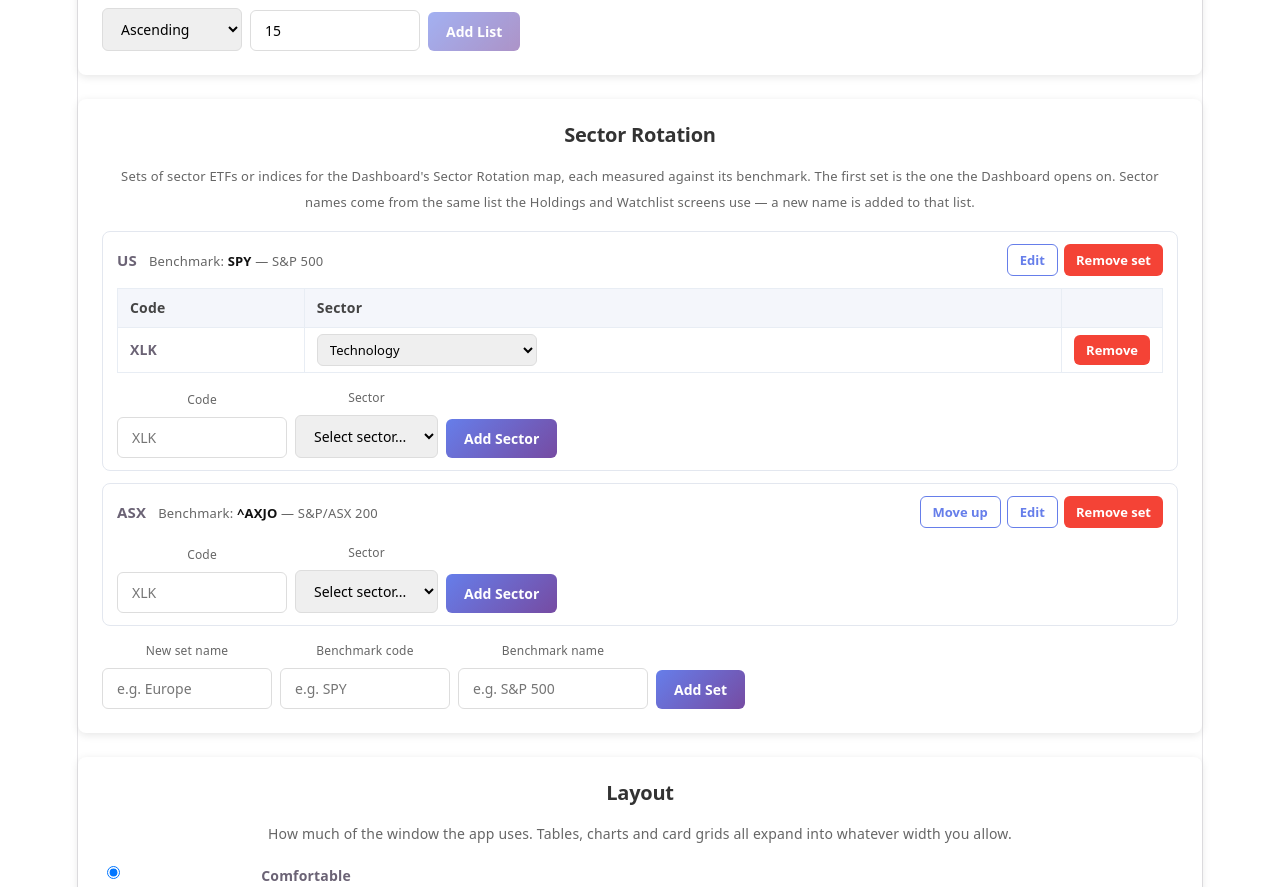
it: sector rotation sets › refuses a code that is already in the set, or is its benchmark
(page scrolled)
Type "xlk" into the field named "New sector code for US" at (202, 437), box [117, 417, 287, 458]
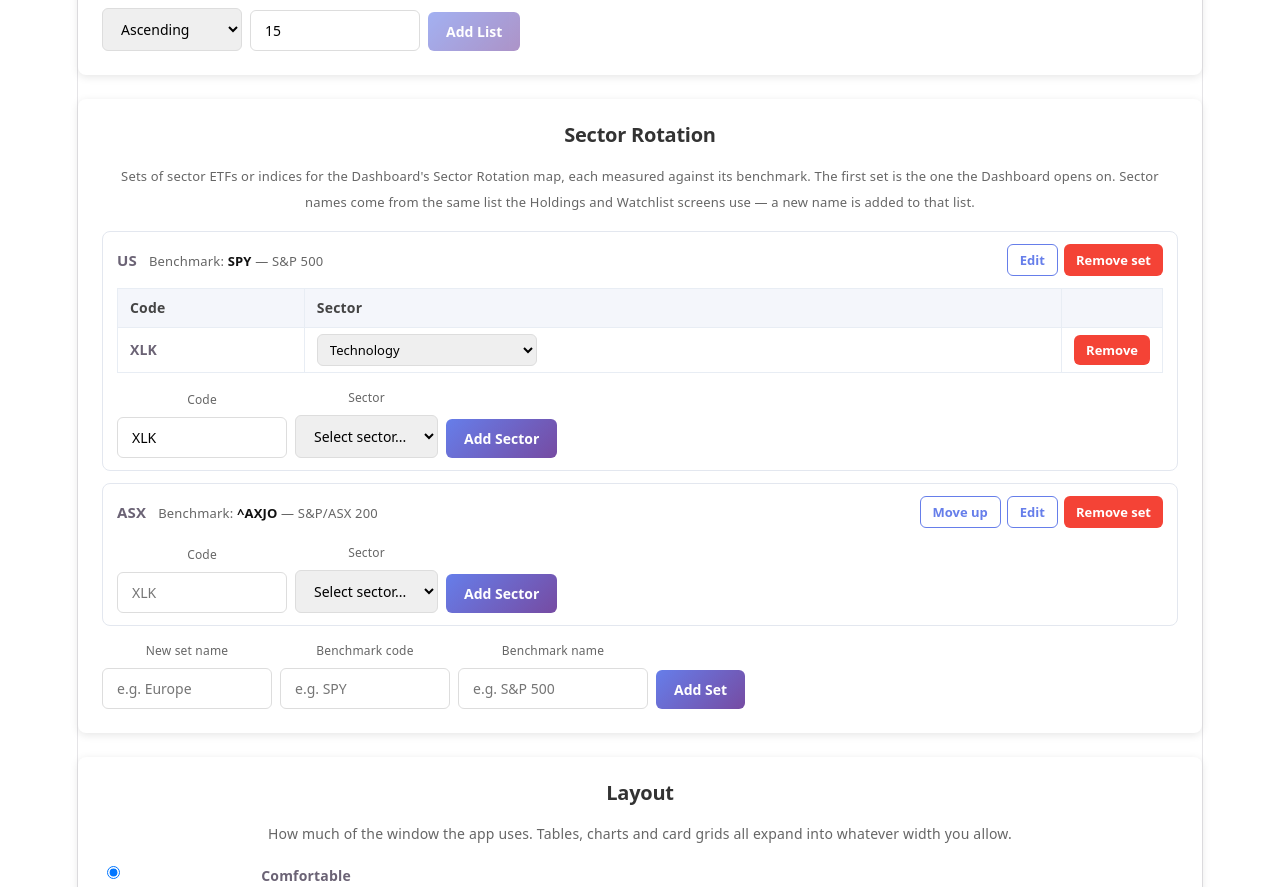
Select "Technology" in the dropdown named "New sector for US" at (366, 436), box [295, 415, 438, 458]
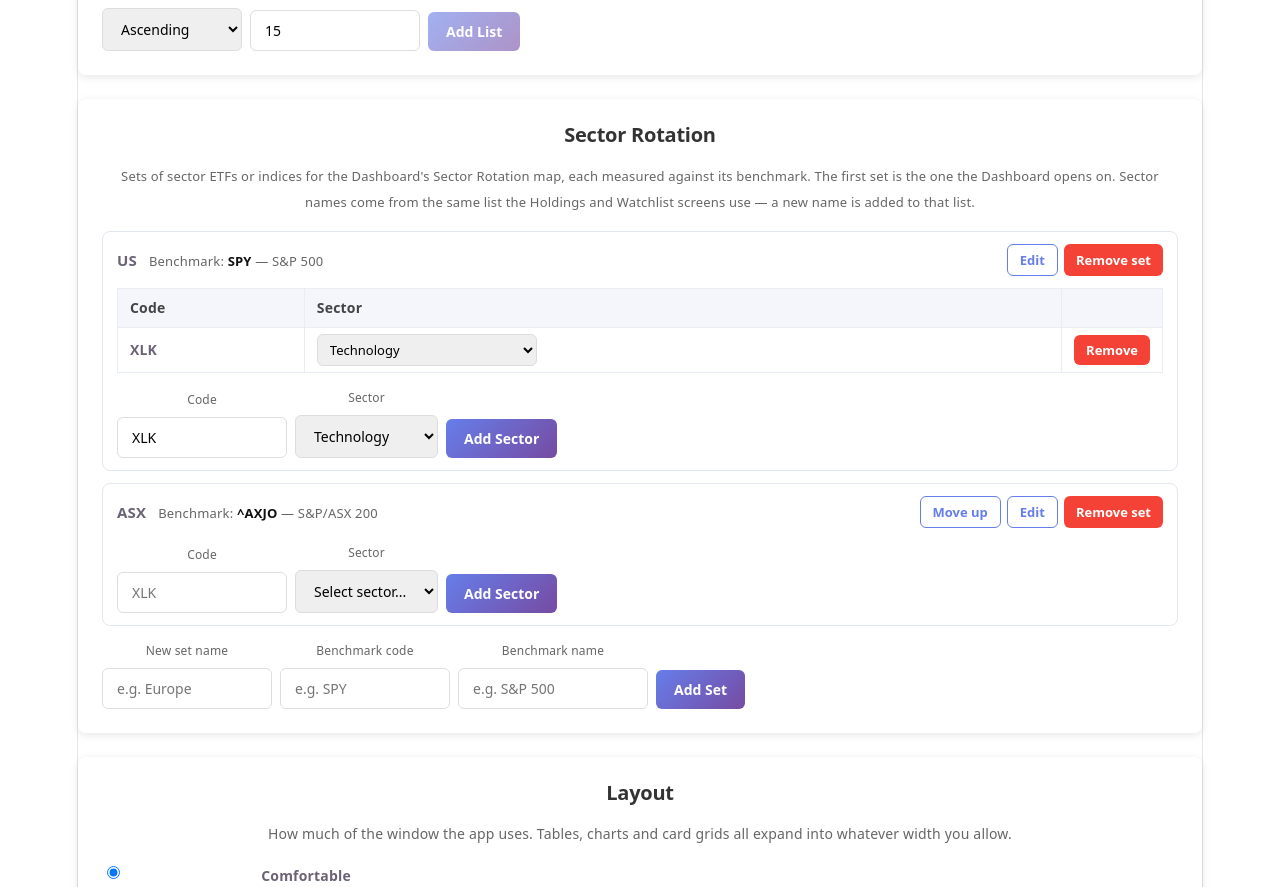
Click the button "Add Sector" below "SPY" at (502, 438), box [446, 419, 557, 458]
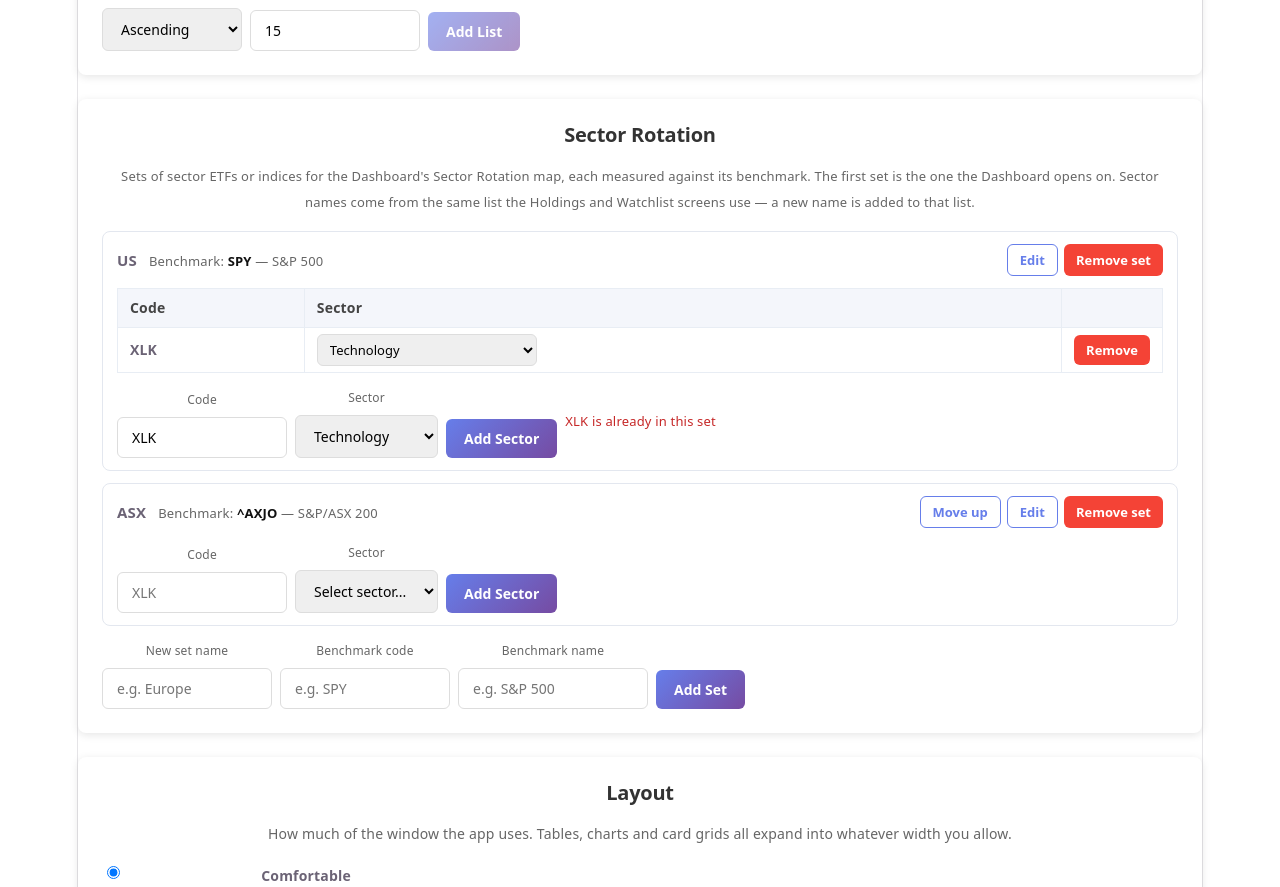
Check: the text "XLK is already in this set" is shown, box [565, 408, 716, 434]
Type "spy" into the field named "New sector code for US" at (202, 437), box [117, 417, 287, 458]
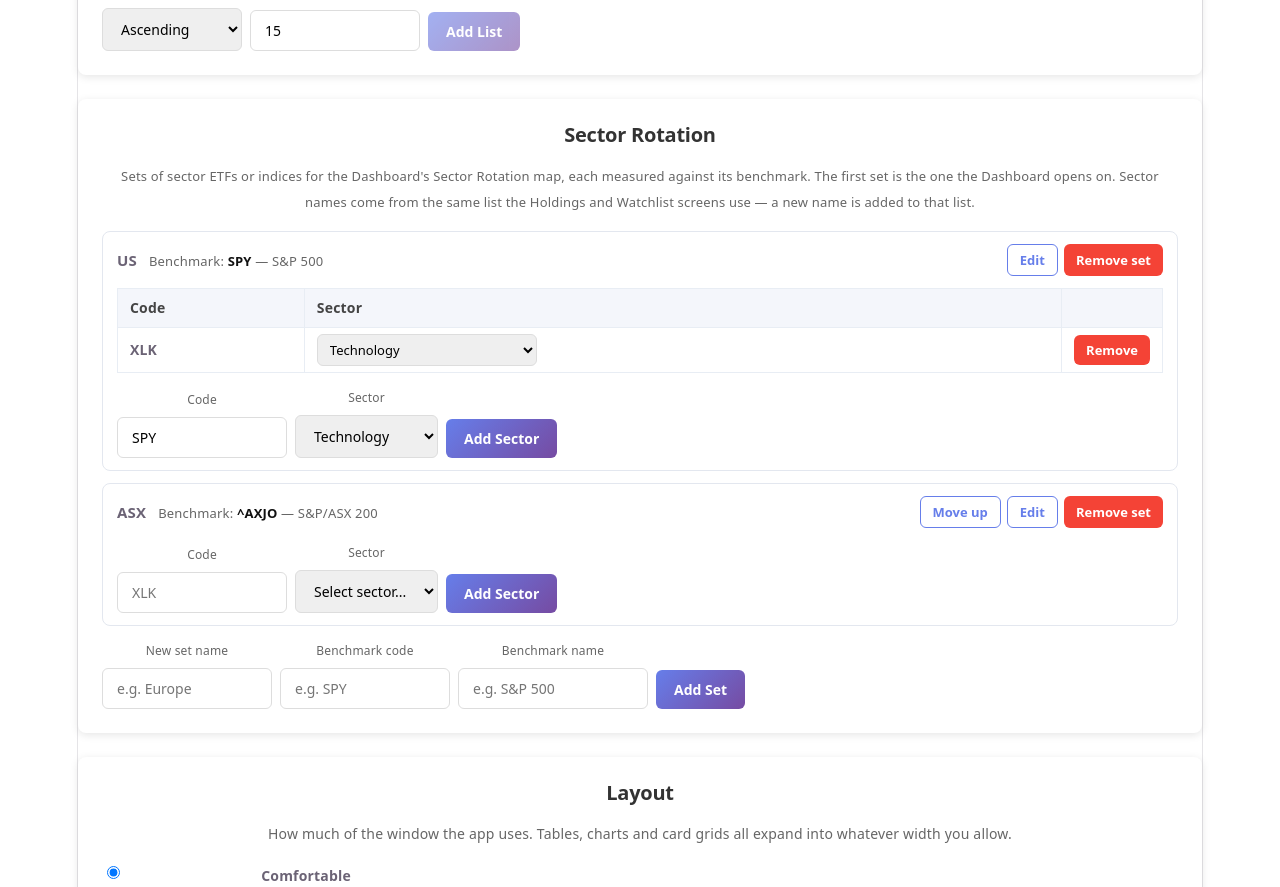
Click the button "Add Sector" below "SPY" at (502, 438), box [446, 419, 557, 458]
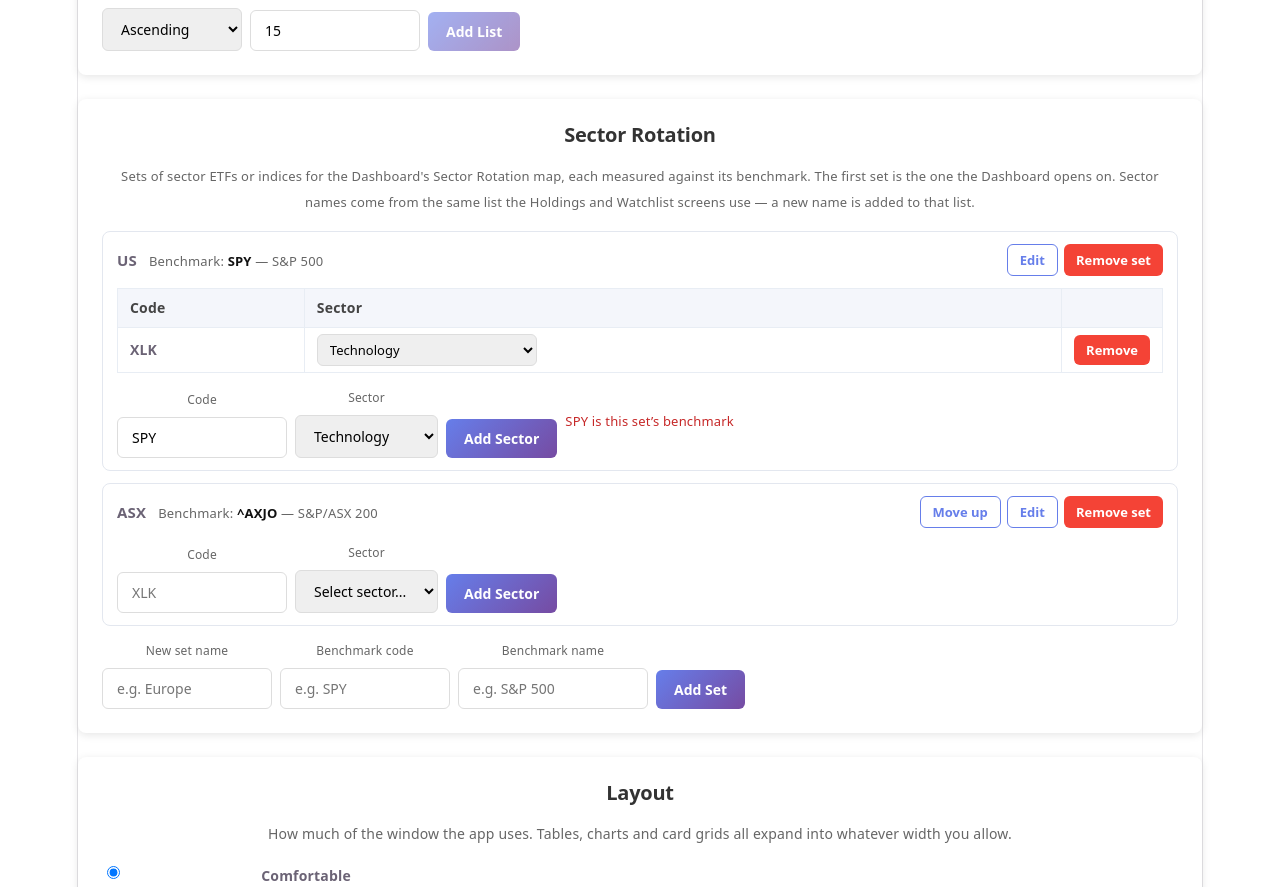
Check: the text "SPY is this set’s benchmark" is shown, box [565, 408, 734, 434]
